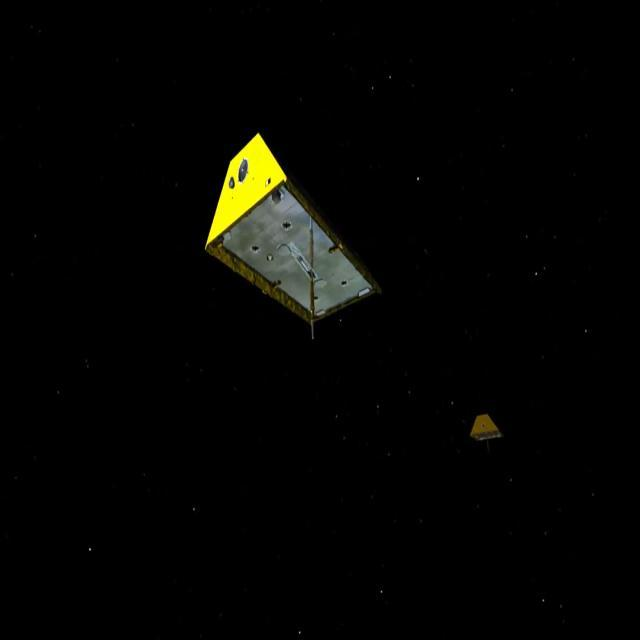debris: (451, 402, 510, 457)
sat: (173, 82, 397, 393)
